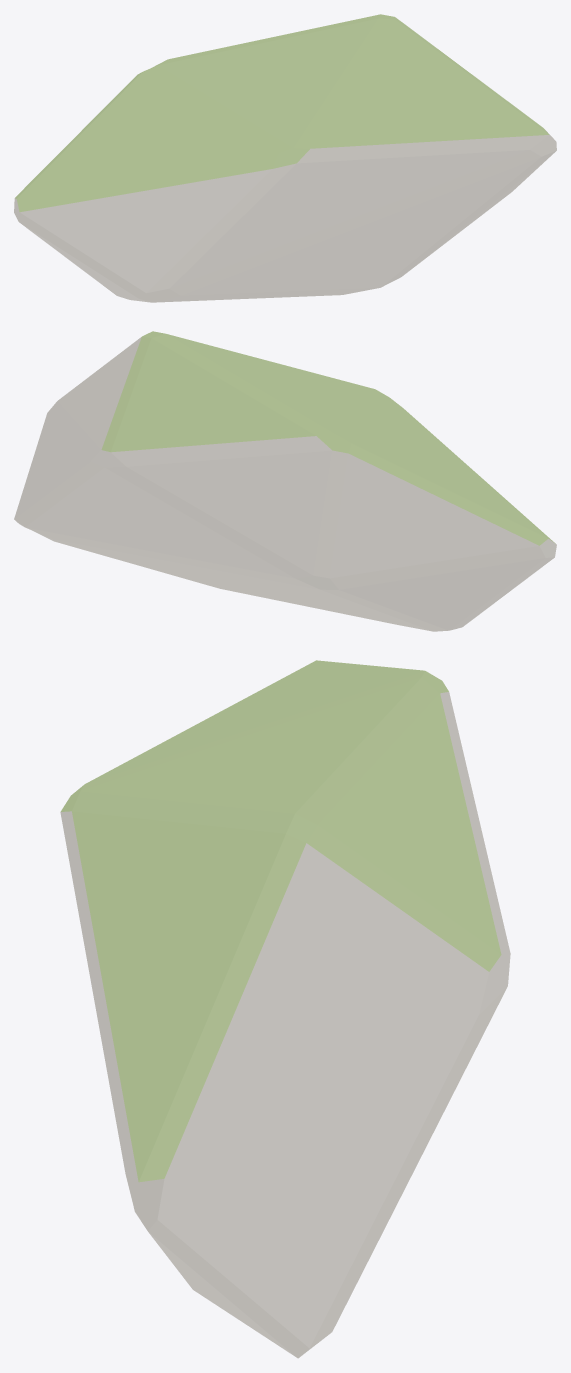
Rendered from Blender_BoulderAngular_1.glb.
The picture shows the model from 3 angles, top to bottom: view 1: azimuth 30°, elevation 25°; view 2: azimuth 150°, elevation 25°; view 3: azimuth 270°, elevation 25°; orthographic projection. The views are drawn at different scales.
Parts seen in each view (by area): view 1: Blender_BoulderAngular_1; view 2: Blender_BoulderAngular_1; view 3: Blender_BoulderAngular_1.
Boxes of the visible parts, x1,y1,x2,y2 form: Blender_BoulderAngular_1: (14,14,556,302); Blender_BoulderAngular_1: (14,331,556,631); Blender_BoulderAngular_1: (60,660,510,1358).
Bounding box in the file's own units: 1.88 × 0.8783 × 0.7307.
